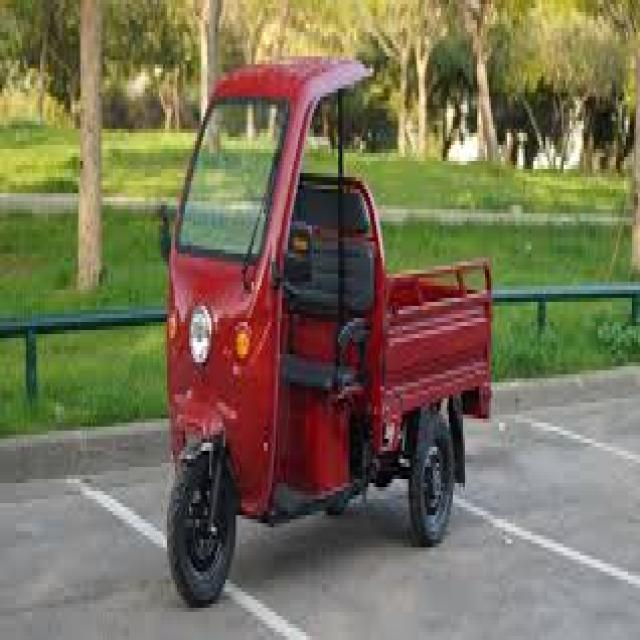tuktuk: (133, 0, 528, 629)
